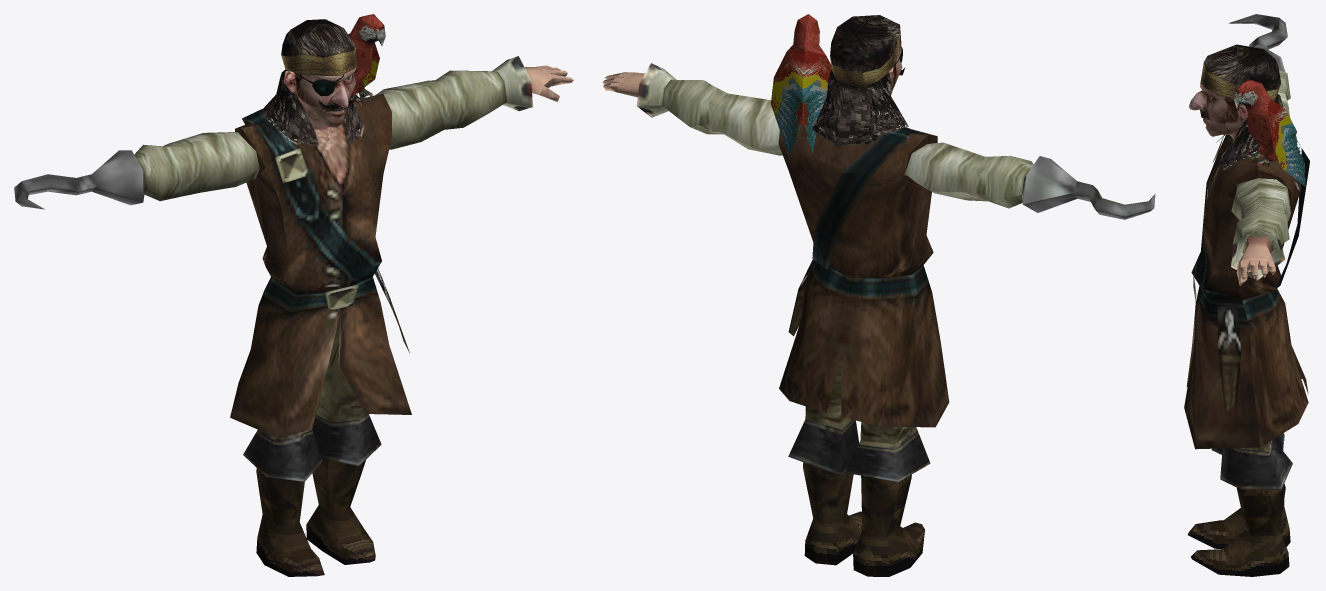
The model's file is THUG 2 - Pirate.dae.
The picture shows the model from 3 angles, left to right: view 1: azimuth 30°, elevation 25°; view 2: azimuth 150°, elevation 25°; view 3: azimuth 270°, elevation 25°; orthographic projection. The views are drawn at different scales.
Parts seen in each view (by area): view 1: DrawCall_0050, DrawCall_0069, DrawCall_0070, DrawCall_0049, DrawCall_0068, DrawCall_0066, DrawCall_0067; view 2: DrawCall_0050, DrawCall_0069, DrawCall_0067, DrawCall_0049, DrawCall_0066, DrawCall_0070, DrawCall_0068; view 3: DrawCall_0050, DrawCall_0069, DrawCall_0070, DrawCall_0049, DrawCall_0067, DrawCall_0066, DrawCall_0068.
Boxes of the visible parts, bbox=[...] form: DrawCall_0050: bbox=[134, 65, 573, 438]; DrawCall_0069: bbox=[14, 150, 409, 525]; DrawCall_0070: bbox=[281, 19, 358, 129]; DrawCall_0049: bbox=[256, 505, 375, 576]; DrawCall_0068: bbox=[275, 56, 532, 310]; DrawCall_0066: bbox=[263, 69, 364, 146]; DrawCall_0067: bbox=[348, 14, 385, 106]; DrawCall_0050: bbox=[602, 46, 1033, 427]; DrawCall_0069: bbox=[788, 156, 1155, 536]; DrawCall_0067: bbox=[770, 14, 831, 157]; DrawCall_0049: bbox=[804, 511, 924, 576]; DrawCall_0066: bbox=[786, 70, 908, 154]; DrawCall_0070: bbox=[830, 15, 905, 95]; DrawCall_0068: bbox=[636, 63, 676, 117]; DrawCall_0050: bbox=[1184, 70, 1309, 449]; DrawCall_0069: bbox=[1210, 14, 1292, 535]; DrawCall_0070: bbox=[1189, 44, 1280, 139]; DrawCall_0049: bbox=[1188, 507, 1290, 576]; DrawCall_0067: bbox=[1233, 79, 1305, 186]; DrawCall_0066: bbox=[1216, 94, 1299, 190]; DrawCall_0068: bbox=[1193, 137, 1285, 302].
Bounding box in the file's own units: 80.39 × 74.26 × 17.03.
